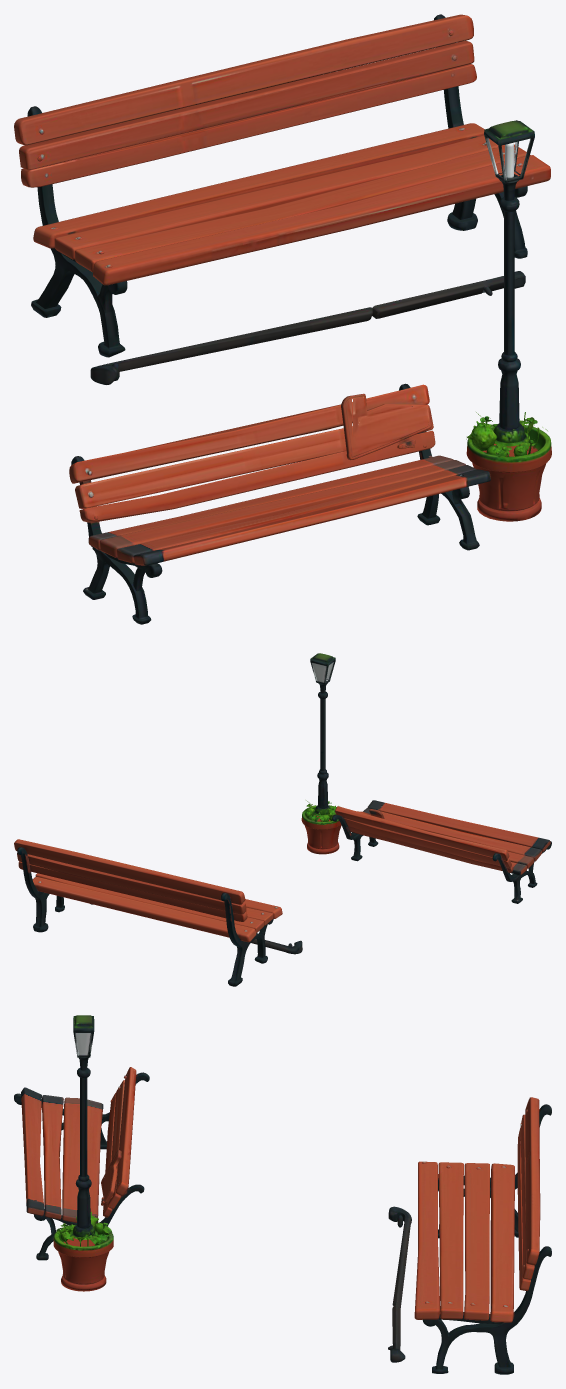
Rendered from toonstudio_park.glb.
The picture shows the model from 3 angles, top to bottom: view 1: azimuth 30°, elevation 25°; view 2: azimuth 150°, elevation 25°; view 3: azimuth 270°, elevation 25°; orthographic projection. The views are drawn at different scales.
Parts seen in each view (by area): view 1: tripo_40d1a422_1cf1_4121_979c_39b61cbeb0de; view 2: tripo_40d1a422_1cf1_4121_979c_39b61cbeb0de; view 3: tripo_40d1a422_1cf1_4121_979c_39b61cbeb0de.
Boxes of the visible parts, <box> form: tripo_40d1a422_1cf1_4121_979c_39b61cbeb0de: <box>14,14,551,624</box>; tripo_40d1a422_1cf1_4121_979c_39b61cbeb0de: <box>14,653,551,986</box>; tripo_40d1a422_1cf1_4121_979c_39b61cbeb0de: <box>14,1015,551,1374</box>.
Bounding box in the file's own units: 2.5 × 1.32 × 2.42.
1 material, 1 textured.
